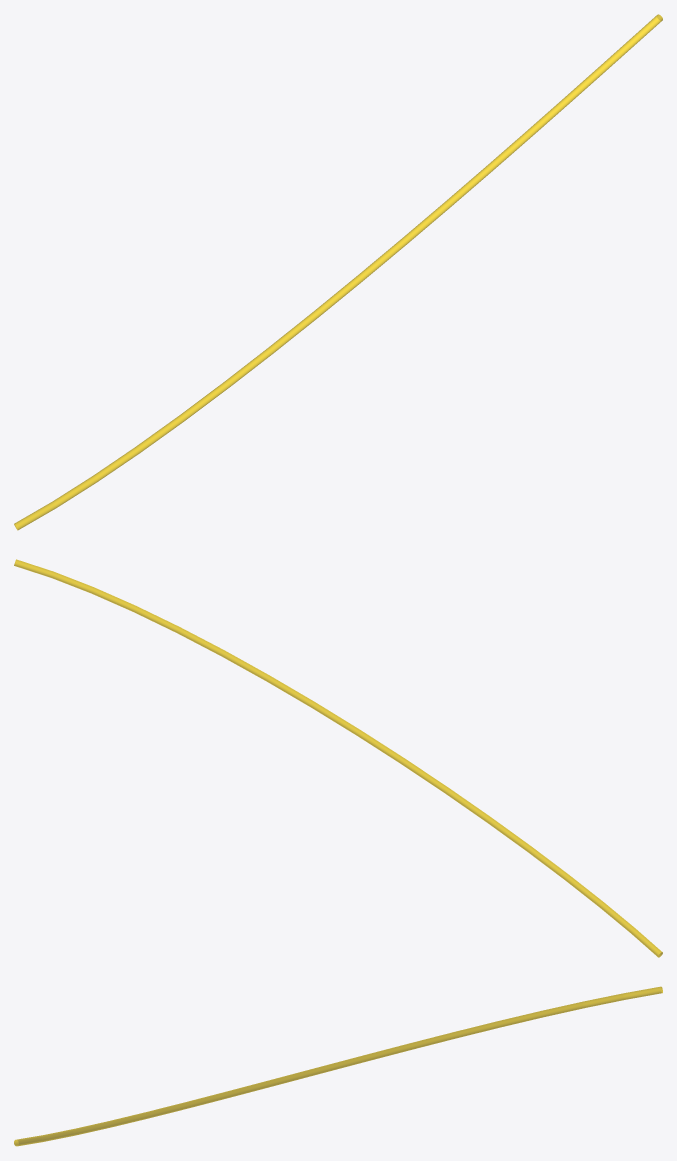
File: Event_27938768_track_89.fbx
3 renders of one model, top to bottom at view 1: azimuth 30°, elevation 25°; view 2: azimuth 150°, elevation 25°; view 3: azimuth 330°, elevation 25°, orthographic. The views are drawn at different scales.
Parts seen in each view (by area): view 1: Model; view 2: Model; view 3: Model.
Part boxes in pixels (left/top/right/bottom): Model: left=14, top=14, right=662, bottom=530; Model: left=14, top=559, right=662, bottom=957; Model: left=14, top=986, right=662, bottom=1146.
Bounding box in the file's own units: 4.09 × 1.79 × 0.5742.
